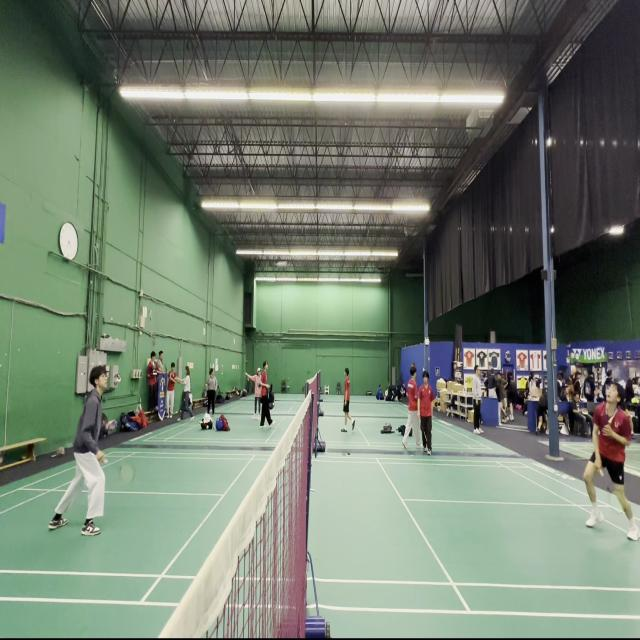shuttlecock: (276, 262, 287, 268)
